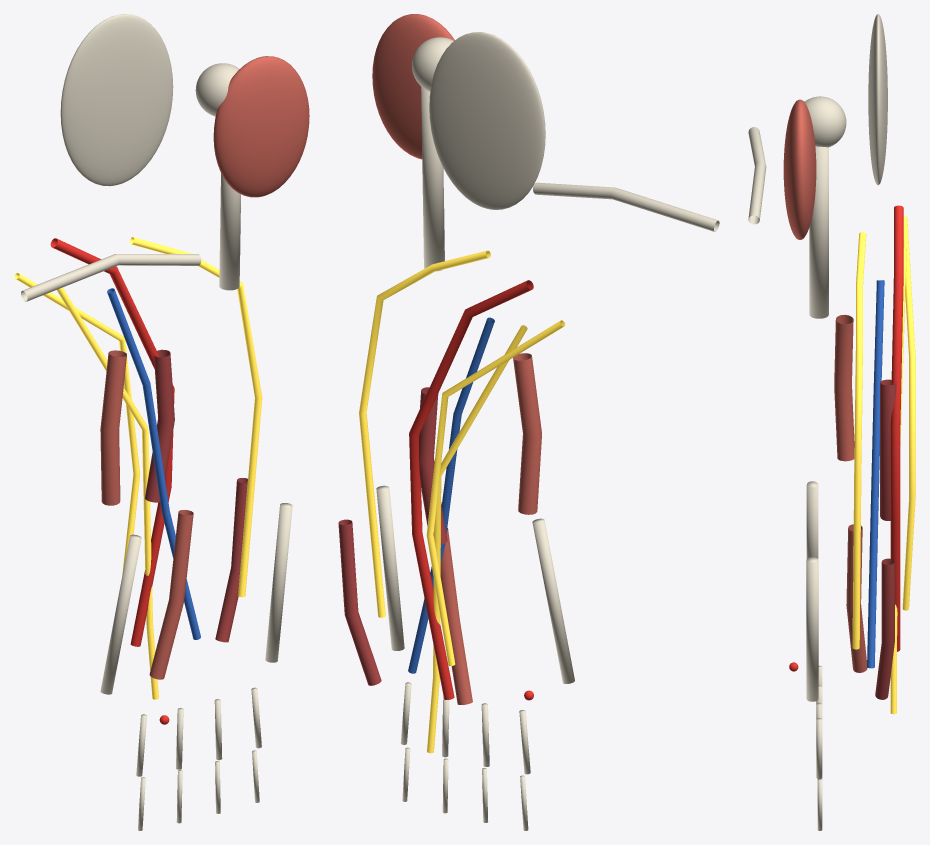
The model's file is membre_superieur_premium.glb.
3 renders of one model, left to right at view 1: azimuth 30°, elevation 25°; view 2: azimuth 150°, elevation 25°; view 3: azimuth 270°, elevation 25°, orthographic. The views are drawn at different scales.
Visible parts, largest first — view 1: BONE_scapula_omoplate, MUSCLE_deltoide, VESSEL_artere_subclaviere_axillaire_brachiale, NERVE_plexus_brachial_nerf_median, MUSCLE_biceps_brachial, VESSEL_veine_cephalique, MUSCLE_flechisseurs_avant_bras, NERVE_nerf_ulnaire, BONE_clavicule, MUSCLE_triceps_brachial, BONE_humerus, BONE_ulna (+4 smaller); view 2: BONE_scapula_omoplate, MUSCLE_deltoide, VESSEL_artere_subclaviere_axillaire_brachiale, NERVE_plexus_brachial_nerf_median, MUSCLE_biceps_brachial, NERVE_nerf_radial, BONE_humerus, NERVE_nerf_ulnaire, MUSCLE_extenseurs_avant_bras, BONE_clavicule, VESSEL_veine_cephalique, BONE_ulna (+4 smaller); view 3: VESSEL_artere_subclaviere_axillaire_brachiale, MUSCLE_deltoide, NERVE_plexus_brachial_nerf_median, VESSEL_veine_cephalique, BONE_humerus, BONE_scapula_omoplate, MUSCLE_biceps_brachial, NERVE_nerf_radial, MUSCLE_extenseurs_avant_bras, BONE_ulna, MUSCLE_triceps_brachial, BONE_tete_humerale (+5 smaller).
Part boxes in pixels (x1,y1,x2,y2): BONE_scapula_omoplate: (60,14,173,186); MUSCLE_deltoide: (213,56,309,197); VESSEL_artere_subclaviere_axillaire_brachiale: (50,238,174,646); NERVE_plexus_brachial_nerf_median: (130,237,262,597); MUSCLE_biceps_brachial: (100,350,126,505); VESSEL_veine_cephalique: (107,288,200,639); MUSCLE_flechisseurs_avant_bras: (149,510,193,679); NERVE_nerf_ulnaire: (56,287,158,699); BONE_clavicule: (21,254,201,301); MUSCLE_triceps_brachial: (145,349,174,502); BONE_humerus: (219,173,240,290); BONE_ulna: (265,503,292,662); BONE_scapula_omoplate: (429,32,545,209); MUSCLE_deltoide: (372,14,454,159); VESSEL_artere_subclaviere_axillaire_brachiale: (409,280,533,699); NERVE_plexus_brachial_nerf_median: (359,250,490,617); MUSCLE_biceps_brachial: (513,353,541,514); NERVE_nerf_radial: (426,320,565,665); BONE_humerus: (421,86,444,271); NERVE_nerf_ulnaire: (427,325,527,753); MUSCLE_extenseurs_avant_bras: (338,519,381,685); BONE_clavicule: (533,182,719,231); VESSEL_veine_cephalique: (408,317,494,673); BONE_ulna: (376,485,404,650); VESSEL_artere_subclaviere_axillaire_brachiale: (890,205,903,651); MUSCLE_deltoide: (783,99,816,239); NERVE_plexus_brachial_nerf_median: (852,232,866,649); VESSEL_veine_cephalique: (867,280,884,668); BONE_humerus: (809,146,828,318); BONE_scapula_omoplate: (868,14,887,185); MUSCLE_biceps_brachial: (834,315,854,461); NERVE_nerf_radial: (902,216,915,610); MUSCLE_extenseurs_avant_bras: (875,558,894,699); BONE_ulna: (806,557,818,701); MUSCLE_triceps_brachial: (880,379,896,520); BONE_tete_humerale: (804,96,846,147).
Bounding box in the file's own units: 2.09 × 5.13 × 1.02.
